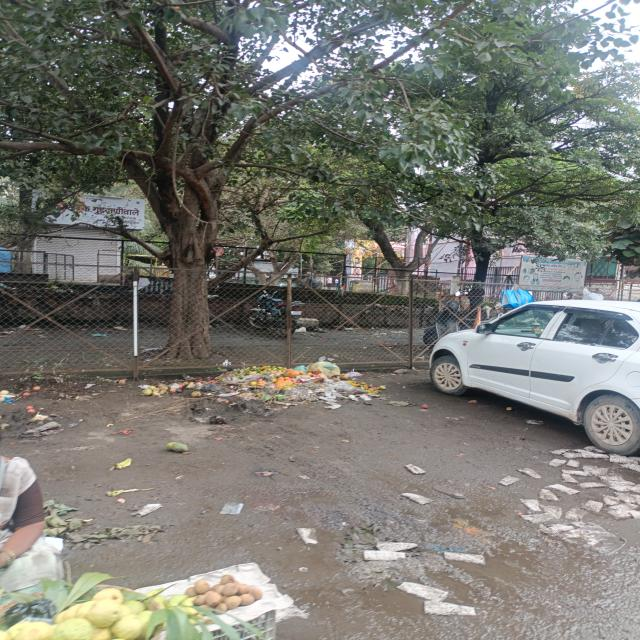garbage: (152, 363, 385, 408), (2, 377, 88, 440)
